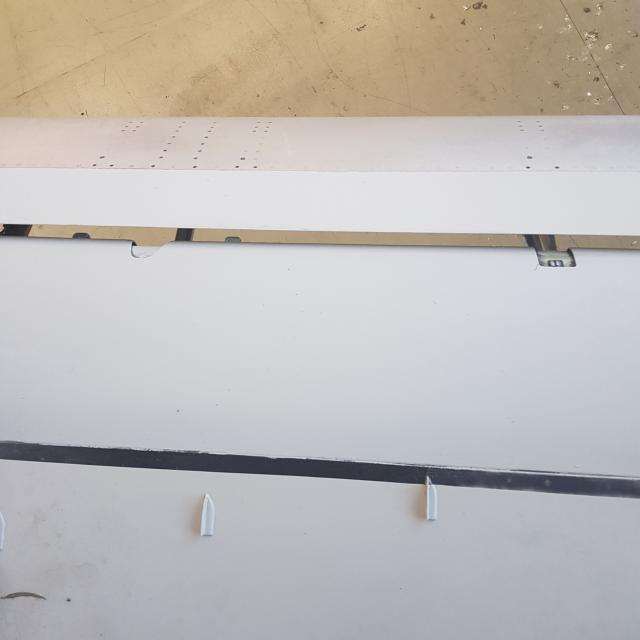crack: (534, 261, 548, 272)
